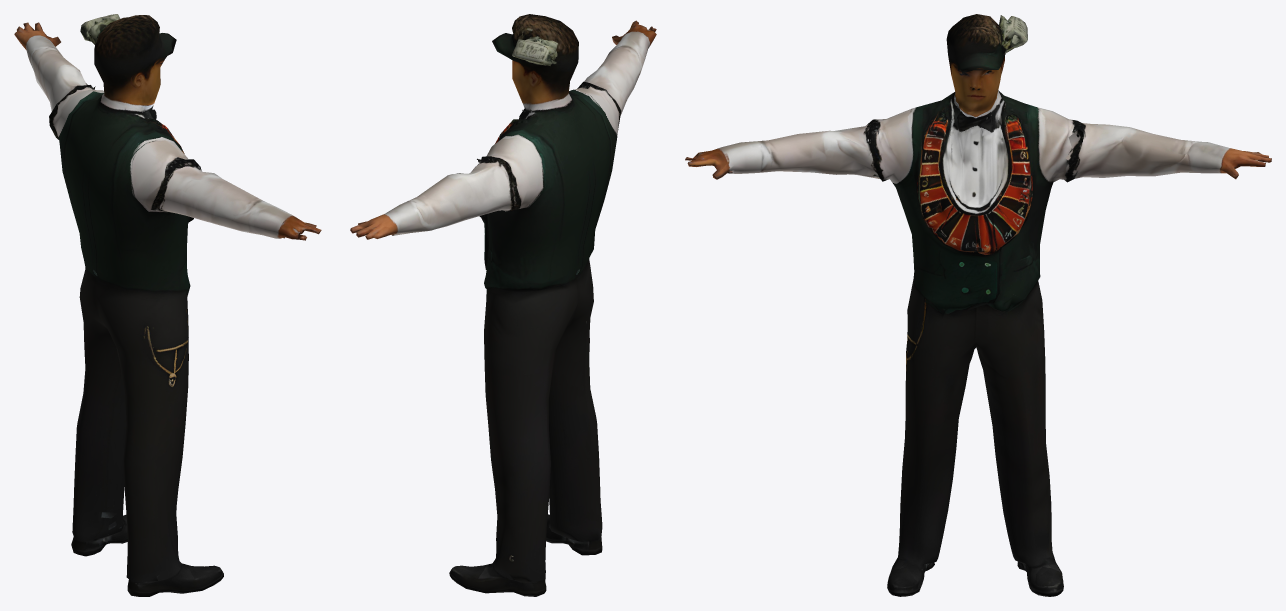
The model's file is Player.fbx.
3 views of the same model, side by side, from view 1: azimuth 30°, elevation 25°; view 2: azimuth 150°, elevation 25°; view 3: azimuth 270°, elevation 25° (orthographic).
Parts seen in each view (by area): view 1: tripo_node_15b549b5; view 2: tripo_node_15b549b5; view 3: tripo_node_15b549b5.
Boxes of the visible parts, <box> form: tripo_node_15b549b5: <box>14,14,321,596</box>; tripo_node_15b549b5: <box>350,14,656,596</box>; tripo_node_15b549b5: <box>685,14,1271,596</box>.
Bounding box in the file's own units: 0.2033 × 0.9988 × 0.9517.
